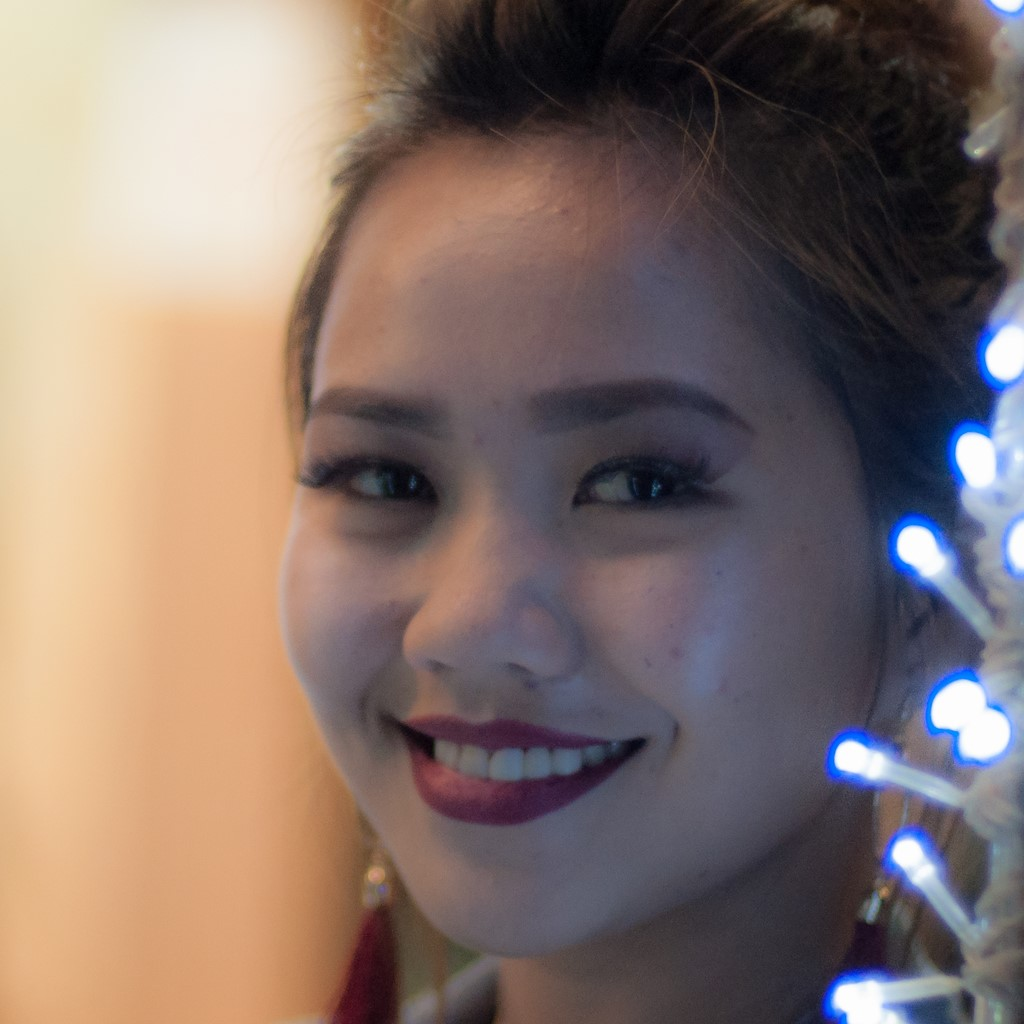sin_mascara: (289, 139, 828, 923)
